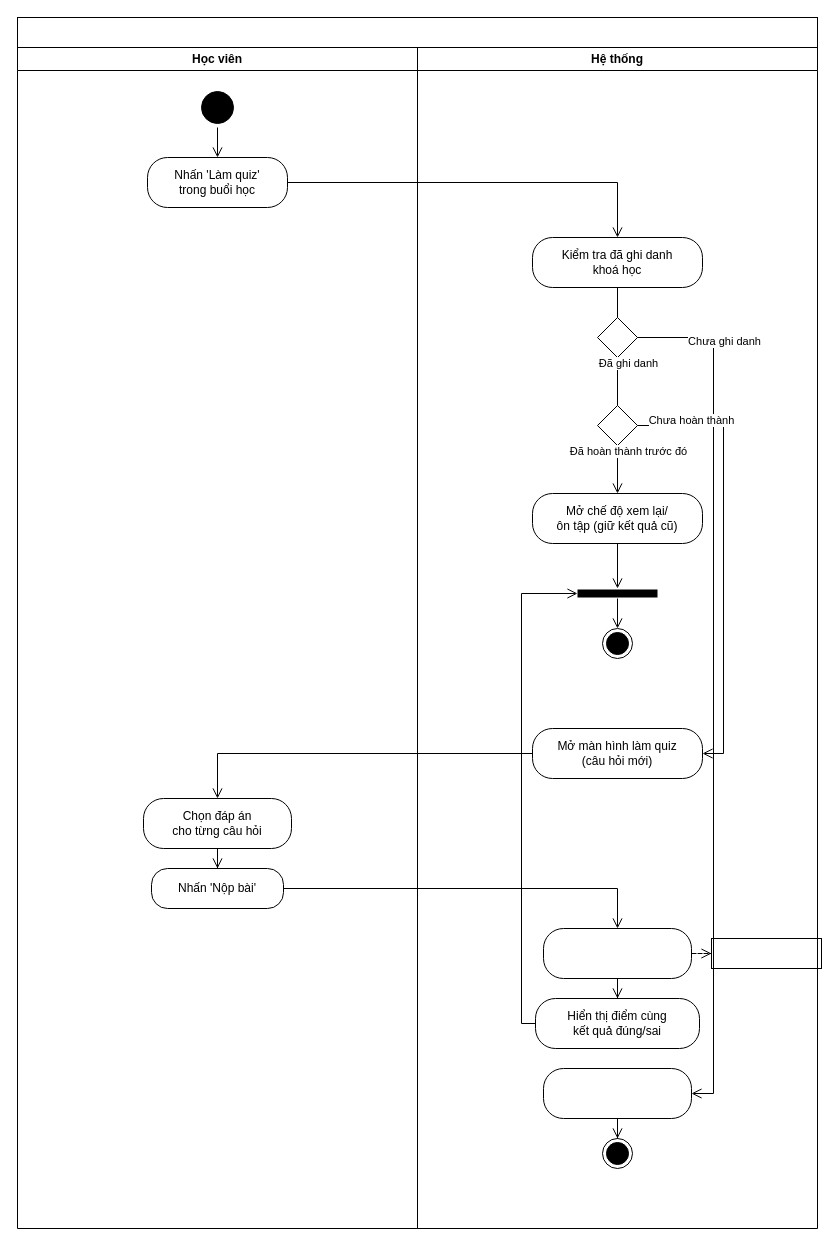
This 839x1246 diagram has some shape labels left out. Each missing label, with the centre of its shape:
Chấm điểm và lưu kết quả quiz: (617,953)
Hiển thị yêu cầu ghi danh trước: (617,1093)
LÀM QUIZ: (417,32)
QuizResult: (766,953)
